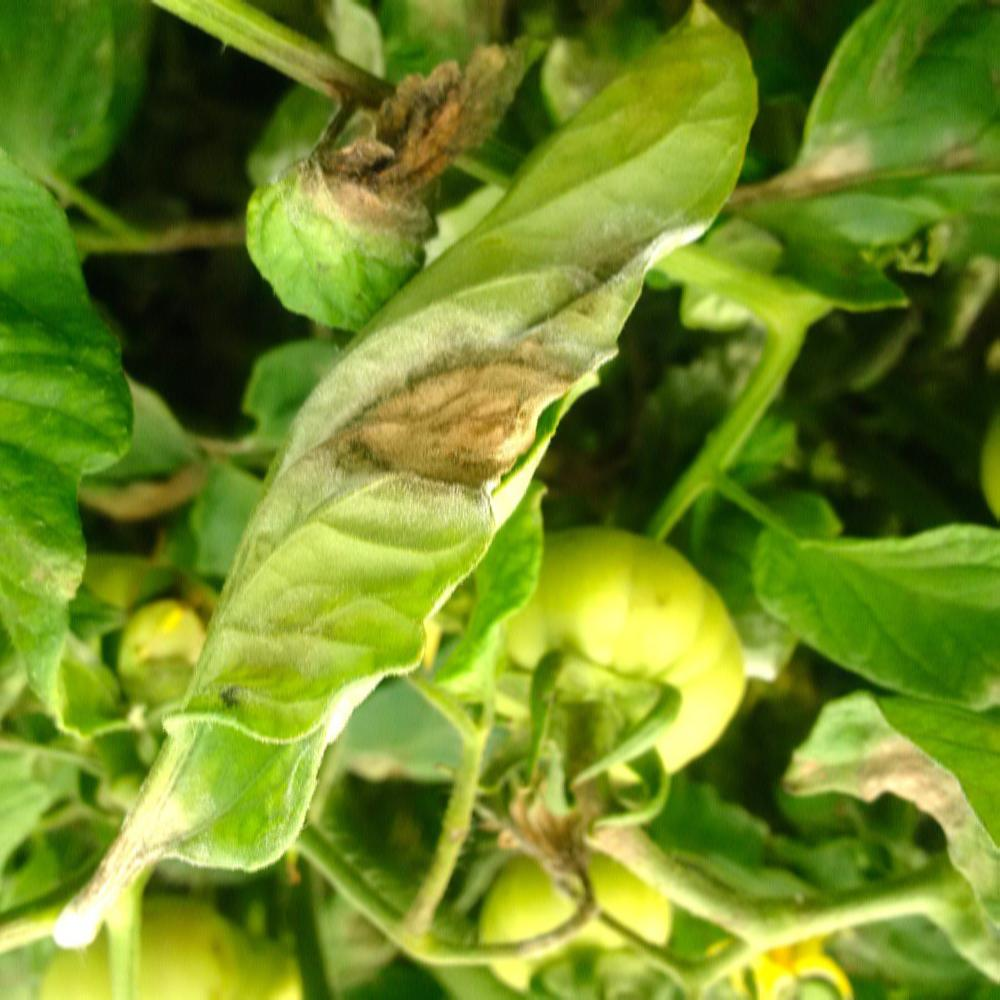Tomato leaf late blight: (87, 0, 787, 932), (231, 32, 553, 333)
